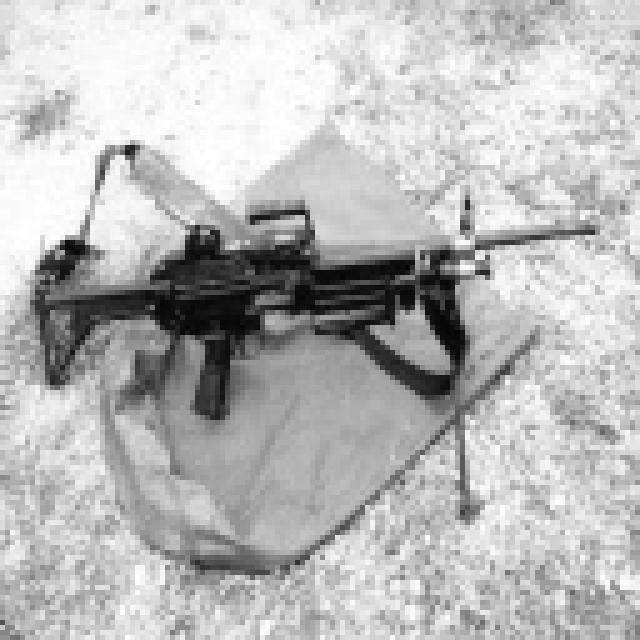Rifle: (0, 130, 640, 539)
